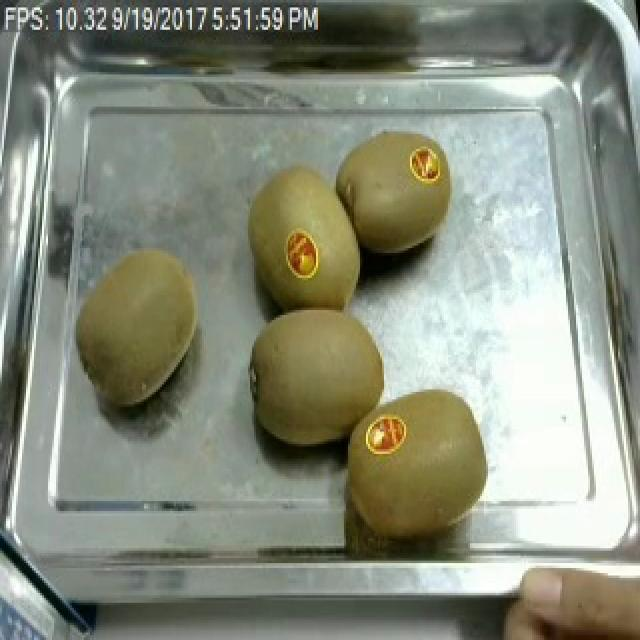Fruit: (340, 380, 500, 548), (66, 236, 208, 417), (242, 298, 394, 454), (238, 154, 372, 312), (326, 117, 462, 263)
